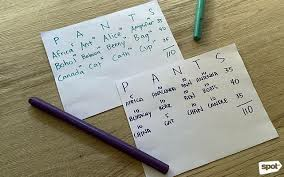pen: (26, 93, 173, 172), (194, 1, 205, 45)
